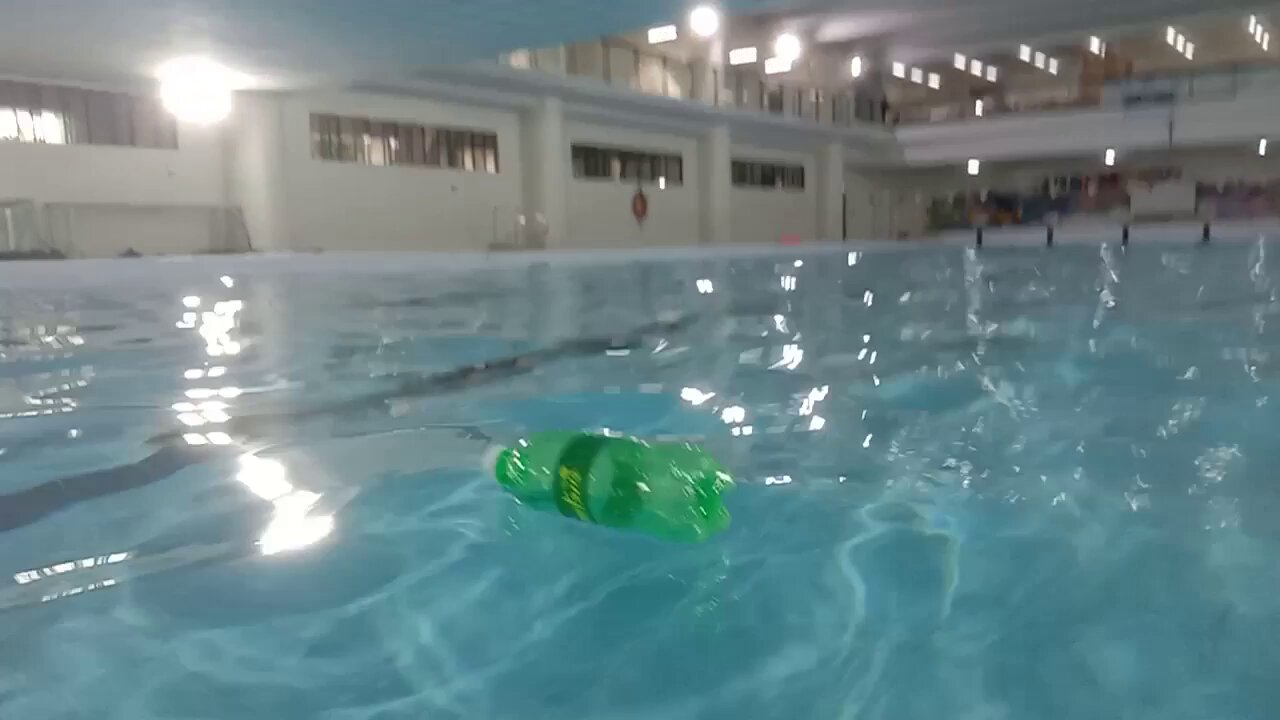plastic_bottle: (481, 432, 733, 541)
